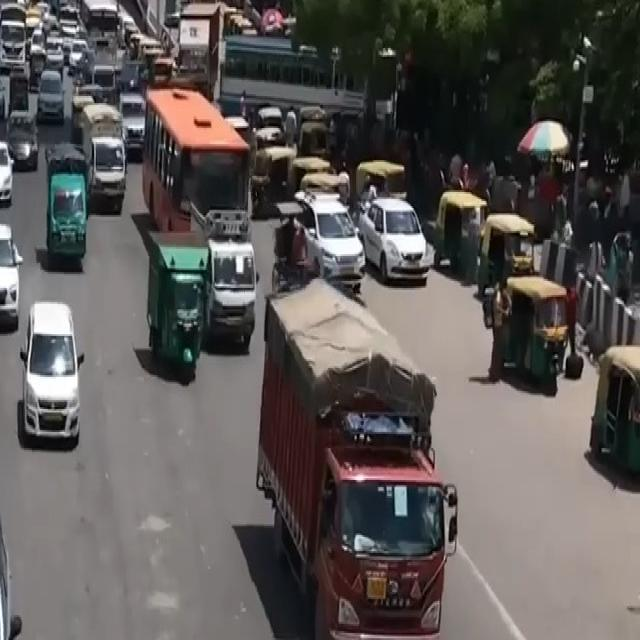bus: (137, 78, 266, 281)
car: (4, 286, 99, 455), (140, 214, 219, 380), (281, 190, 372, 310), (354, 185, 440, 293), (0, 482, 46, 640), (0, 212, 31, 332), (0, 128, 21, 213)
rickshaw: (492, 256, 580, 404)
van: (240, 265, 464, 640)
